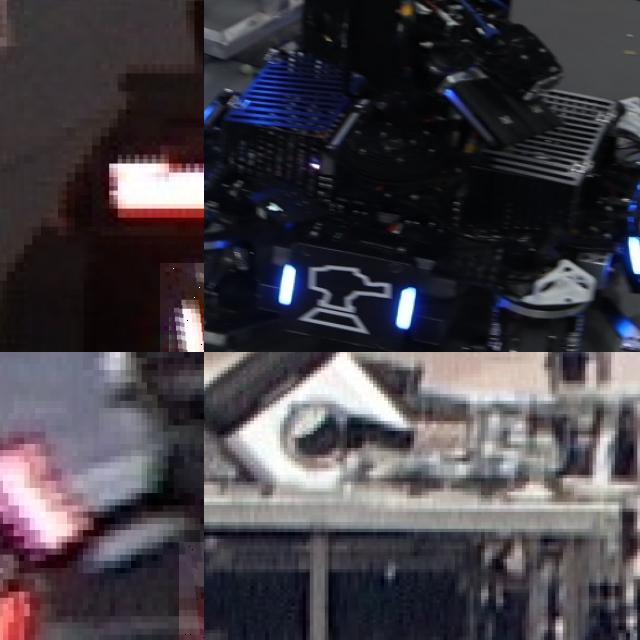Bs: (275, 260, 416, 335), (621, 184, 640, 277)
